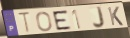1: (71, 9, 82, 29)
E: (51, 10, 73, 32)
J: (92, 6, 106, 30)
K: (107, 6, 125, 27)
O: (35, 11, 54, 33)
T: (17, 12, 32, 35)
